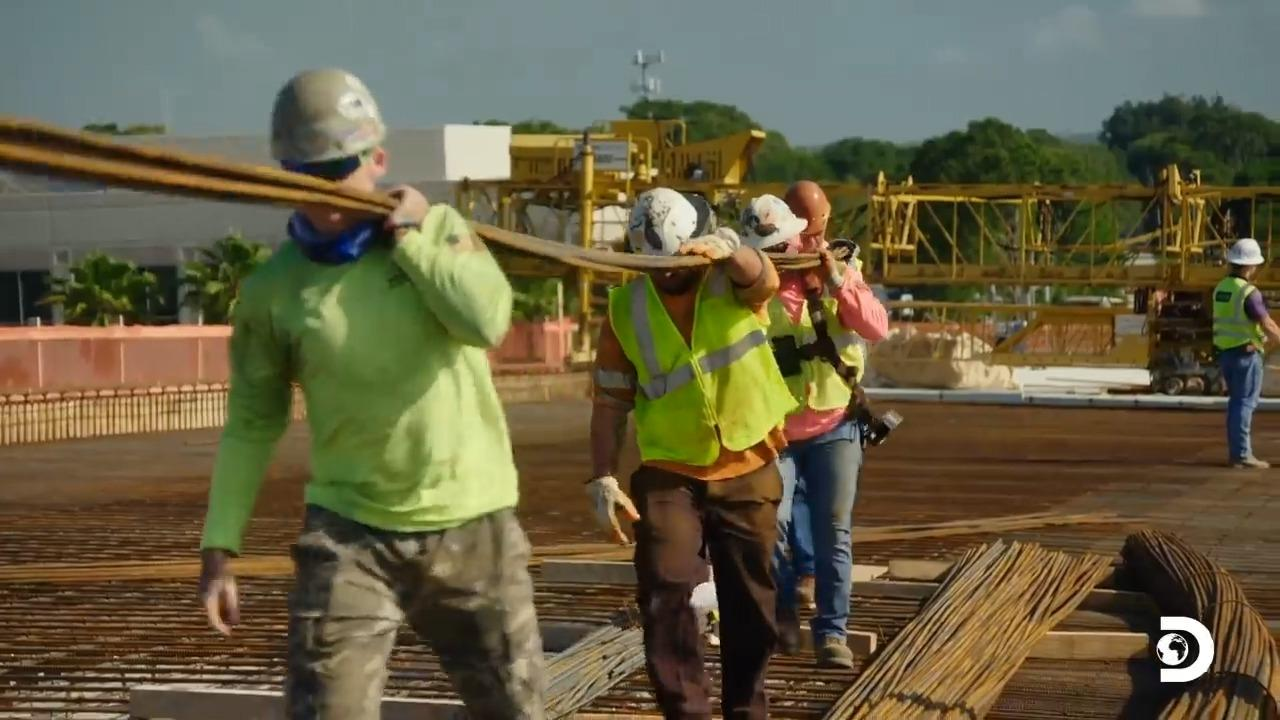Gloves: (195, 560, 251, 630), (586, 472, 634, 546), (381, 186, 431, 237), (680, 232, 733, 263), (819, 249, 841, 291)
Helmet: (269, 67, 385, 167), (744, 199, 793, 249), (791, 187, 834, 229), (1226, 237, 1264, 265)
Person: (198, 66, 550, 719), (584, 186, 799, 719), (757, 179, 889, 669), (1211, 237, 1279, 469)
Safety Boot: (1229, 455, 1268, 471)
Safety Vest: (615, 293, 770, 439), (781, 305, 860, 437), (1216, 284, 1262, 345)
no-vest: (305, 270, 507, 500)
